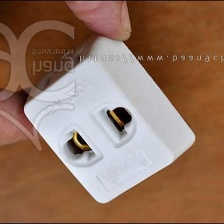three_eye_plug: (18, 28, 199, 209)
